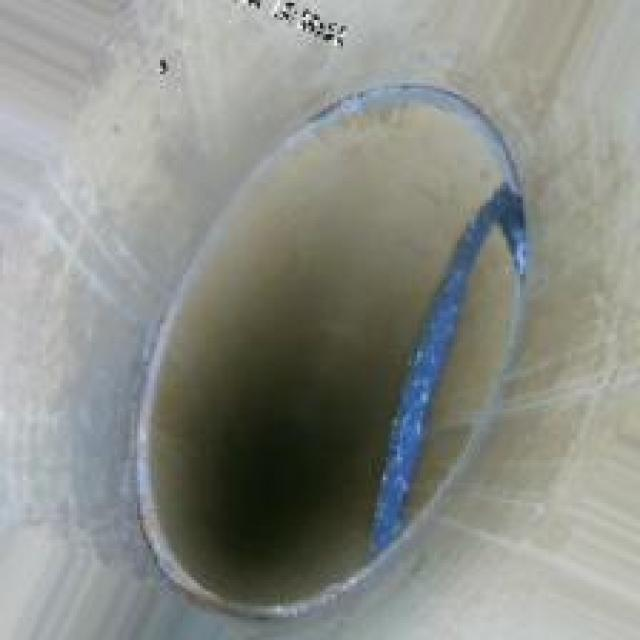joint: (123, 69, 534, 617)
